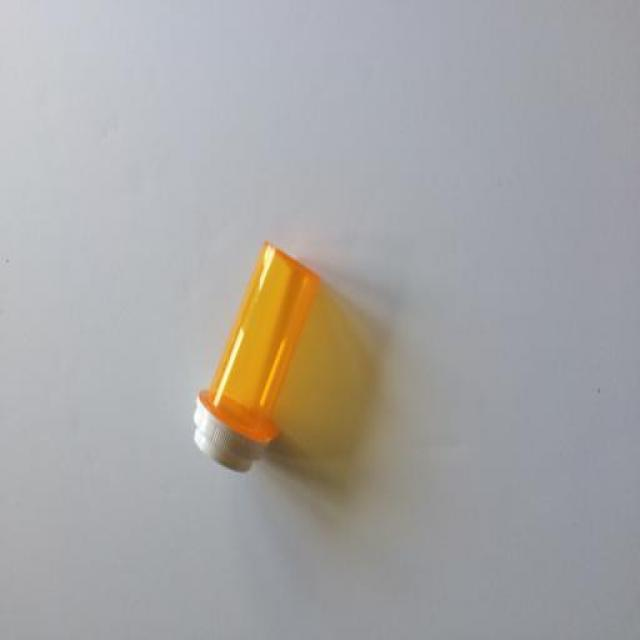plastic_bottle: (141, 202, 363, 490)
